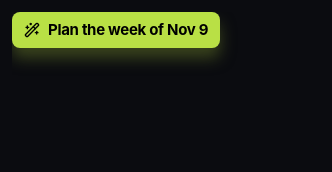
Test: the plan buttons when a press gets no answer › Plan the week says it is not started yet, and keeps its button
Click the button "Plan the week of Nov 9" at [116, 30], box top-left (12, 12), bottom-right (220, 48)
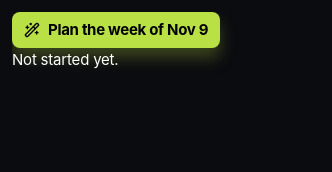
Now the text "Not started yet." is shown, box top-left (12, 50), bottom-right (118, 69)
